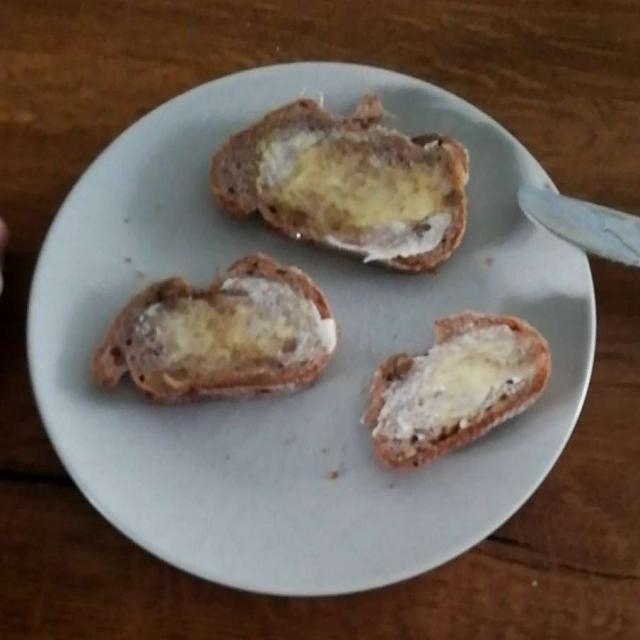bread: (92, 102, 566, 467)
butter: (111, 128, 530, 439)
